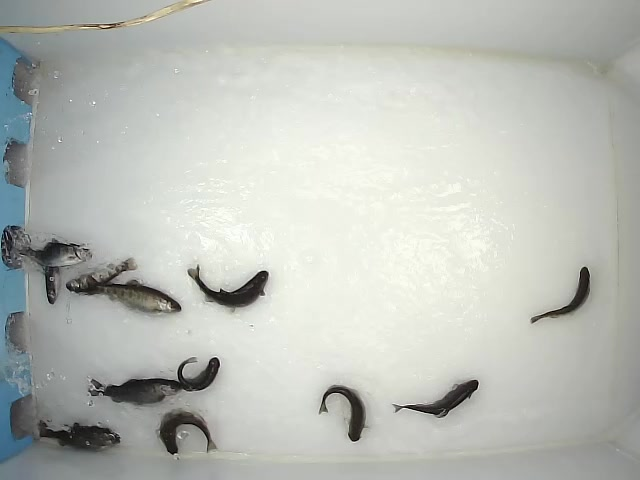fish: (187, 262, 270, 315), (87, 277, 183, 317), (529, 266, 591, 325), (391, 379, 479, 419), (318, 384, 371, 444), (157, 408, 221, 456), (85, 376, 184, 407), (36, 420, 122, 452), (65, 256, 138, 293), (17, 237, 94, 268), (176, 356, 222, 392), (44, 233, 62, 305)
